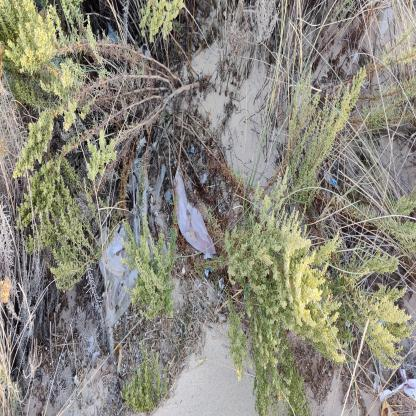plastik: (176, 168, 217, 256)
